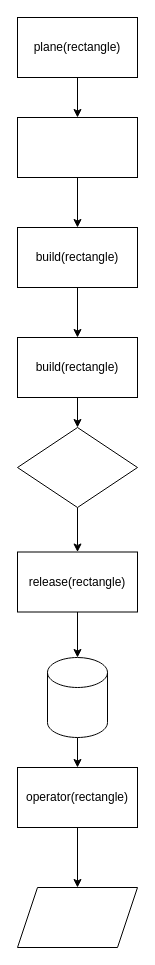
Some shapes in this 155 by 965 pixel diagram are drawn without their labels. Each missing label, with the centre of its shape:
"deploy(cy linder)" goes at point (77, 697).
"develop(rectangle)" goes at point (77, 147).
"test(diamond)" goes at point (77, 467).
